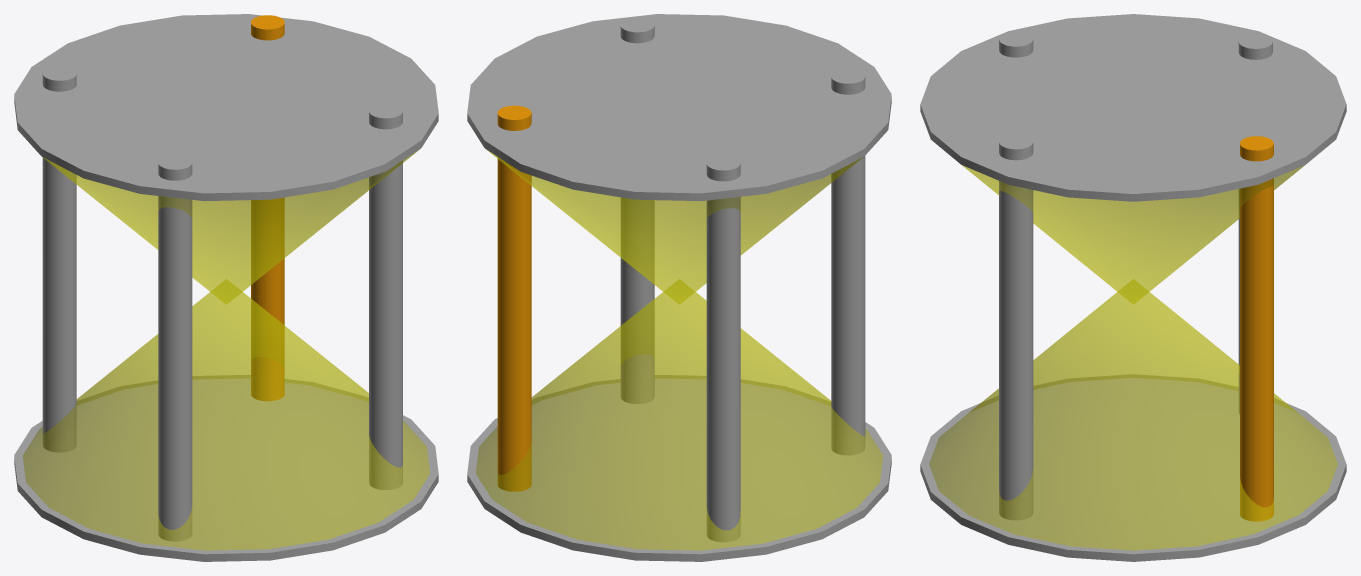
File: sablier.fbx
3 views of the same model, side by side, from view 1: azimuth 30°, elevation 25°; view 2: azimuth 150°, elevation 25°; view 3: azimuth 270°, elevation 25° (orthographic).
Parts seen in each view (by area): view 1: pCone2, pCylinder11, pCylinder12, pCone1, pCylinder8, pCylinder7, pCylinder9, pCylinder6; view 2: pCone2, pCylinder11, pCylinder12, pCone1, pCylinder9, pCylinder6, pCylinder8, pCylinder7; view 3: pCone2, pCylinder11, pCylinder12, pCone1, pCylinder7, pCylinder6, pCylinder9, pCylinder8.
Part boxes in pixels (<box>): pCone2: <box>23,279,429,550</box>; pCylinder11: <box>14,14,438,201</box>; pCylinder12: <box>14,375,438,561</box>; pCone1: <box>42,149,419,304</box>; pCylinder8: <box>158,155,192,541</box>; pCylinder7: <box>369,104,402,489</box>; pCylinder9: <box>42,66,76,452</box>; pCylinder6: <box>251,15,284,401</box>; pCone2: <box>476,279,882,550</box>; pCylinder11: <box>467,14,891,201</box>; pCylinder12: <box>467,375,891,561</box>; pCone1: <box>486,149,863,304</box>; pCylinder9: <box>706,156,740,542</box>; pCylinder6: <box>497,105,531,491</box>; pCylinder8: <box>831,69,865,455</box>; pCylinder7: <box>620,18,654,403</box>; pCone2: <box>929,279,1337,550</box>; pCylinder11: <box>920,14,1346,201</box>; pCylinder12: <box>920,374,1346,561</box>; pCone1: <box>962,165,1304,304</box>; pCylinder7: <box>999,135,1033,520</box>; pCylinder6: <box>1240,136,1273,521</box>; pCylinder9: <box>1238,34,1272,414</box>; pCylinder8: <box>999,32,1033,57</box>.
Size of the model in its own units: 2 by 2 by 2.
